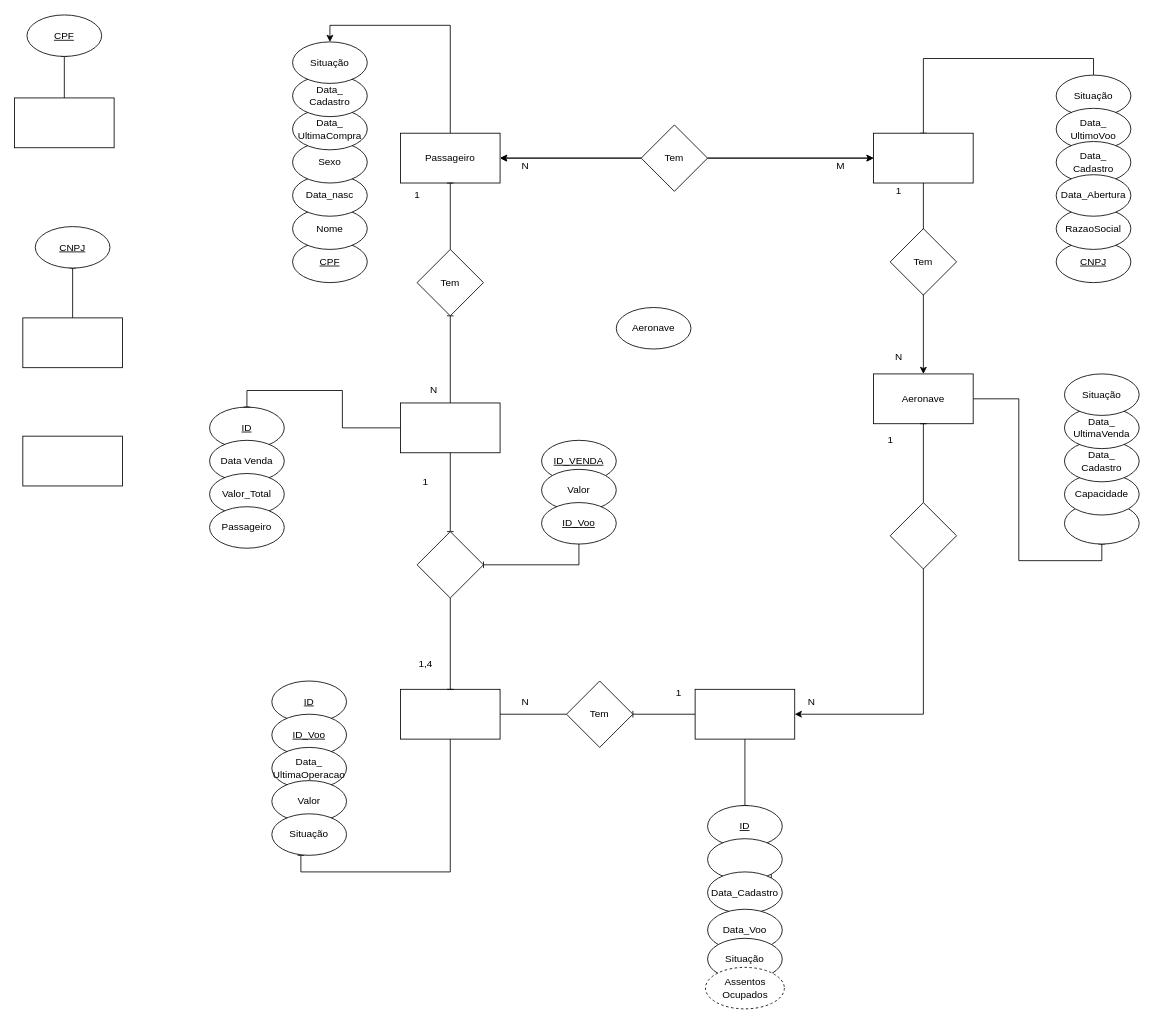
This 1154x1023 diagram has some shape labels left out. Each missing label, with the box of its shape:
Cia.Aérea: (873, 132, 973, 183)
Cia.Bloqueada: (22, 317, 122, 368)
Cpf_Restrito: (14, 97, 114, 148)
Destino: (707, 838, 782, 880)
IATAS: (22, 435, 122, 486)
Inscrição: (1064, 502, 1139, 544)
Passagem: (400, 688, 500, 739)
Possui: (416, 531, 483, 598)
Realiza: (889, 502, 957, 569)
Venda de Passagem: (400, 402, 500, 453)
Vôo: (694, 688, 795, 739)
